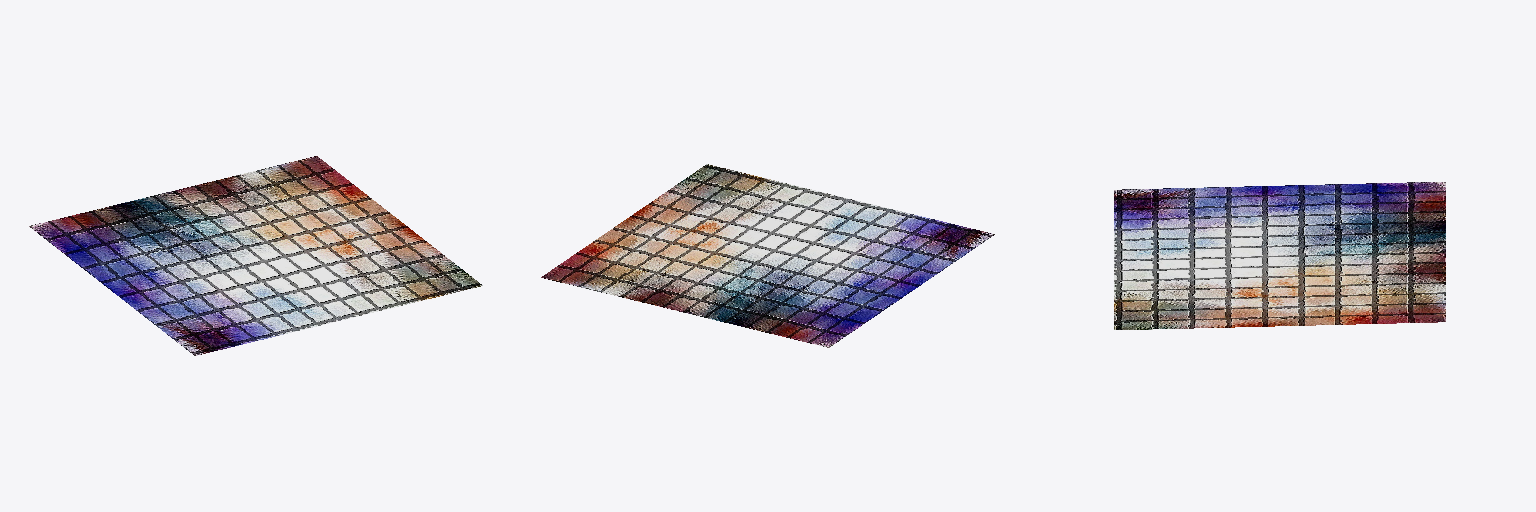
The picture shows the model from 3 angles: view 1: azimuth 30°, elevation 25°; view 2: azimuth 150°, elevation 25°; view 3: azimuth 270°, elevation 25°; orthographic projection.
Parts seen in each view (by area): view 1: ƽ��; view 2: ƽ��; view 3: ƽ��.
Part boxes in pixels (x1,y1,x2,y2): ƽ��: (29, 156, 482, 355); ƽ��: (541, 164, 994, 347); ƽ��: (1114, 182, 1445, 329).
Size of the model in its own units: 157 by 4.28 by 157.
Materials: 1 (1 with a texture image).